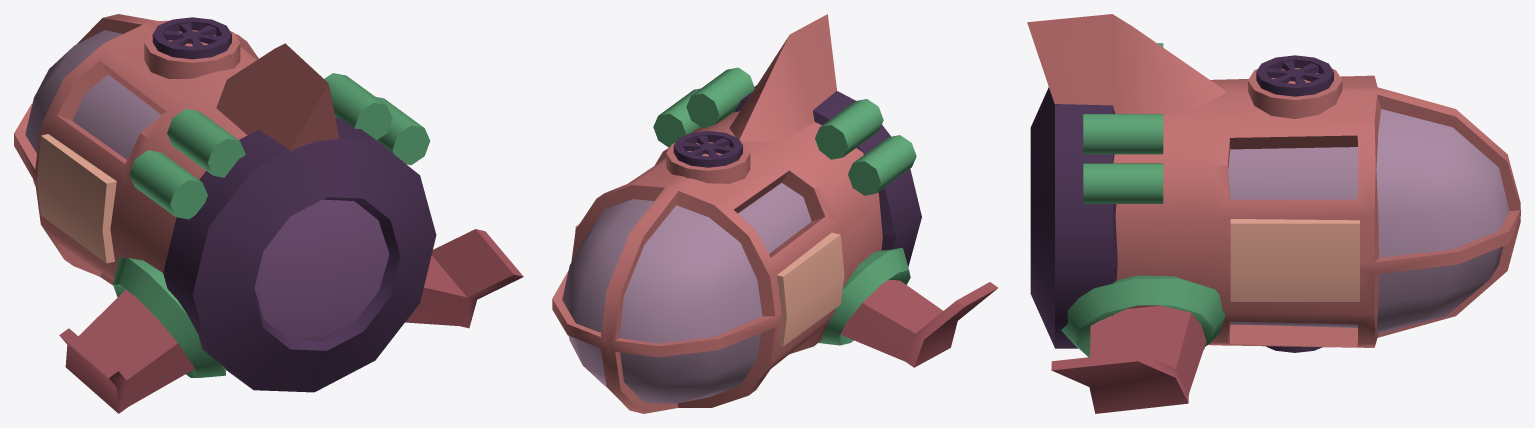
The picture shows the model from 3 angles, left to right: view 1: azimuth 30°, elevation 25°; view 2: azimuth 150°, elevation 25°; view 3: azimuth 270°, elevation 25°; orthographic projection. The views are drawn at different scales.
Parts seen in each view (by area): view 1: Sub; view 2: Sub; view 3: Sub.
Boxes of the visible parts, left/top/right/bottom form: Sub: left=14, top=14, right=523, bottom=413; Sub: left=552, top=14, right=998, bottom=413; Sub: left=1027, top=14, right=1520, bottom=413.
Bounding box in the file's own units: 5.59 × 4.27 × 5.71.
1 material, 1 textured.
